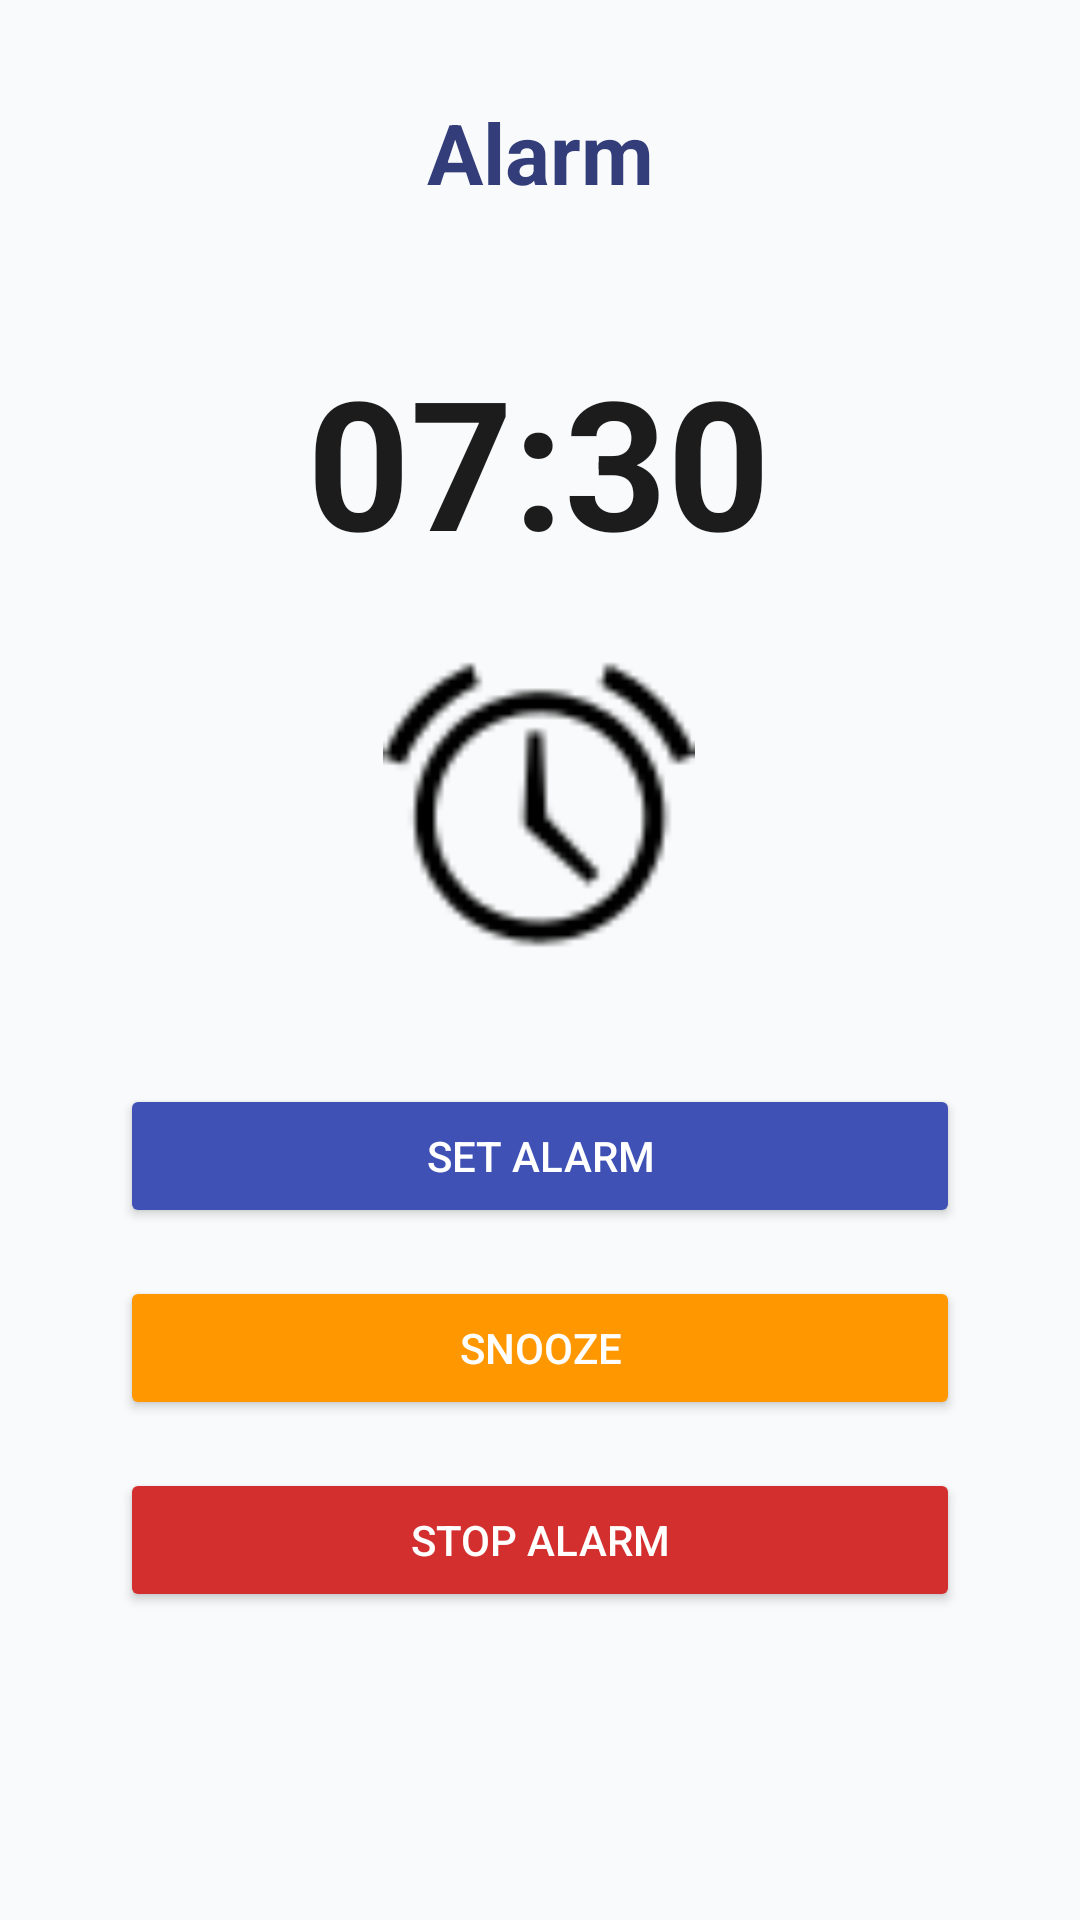

Where to tap for icons on this 1080 x 1920 app screen, as [x,y]:
lock idle alarm: [539,805]
